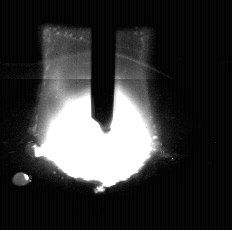arame: (92, 0, 115, 133)
poca: (32, 0, 158, 230)
